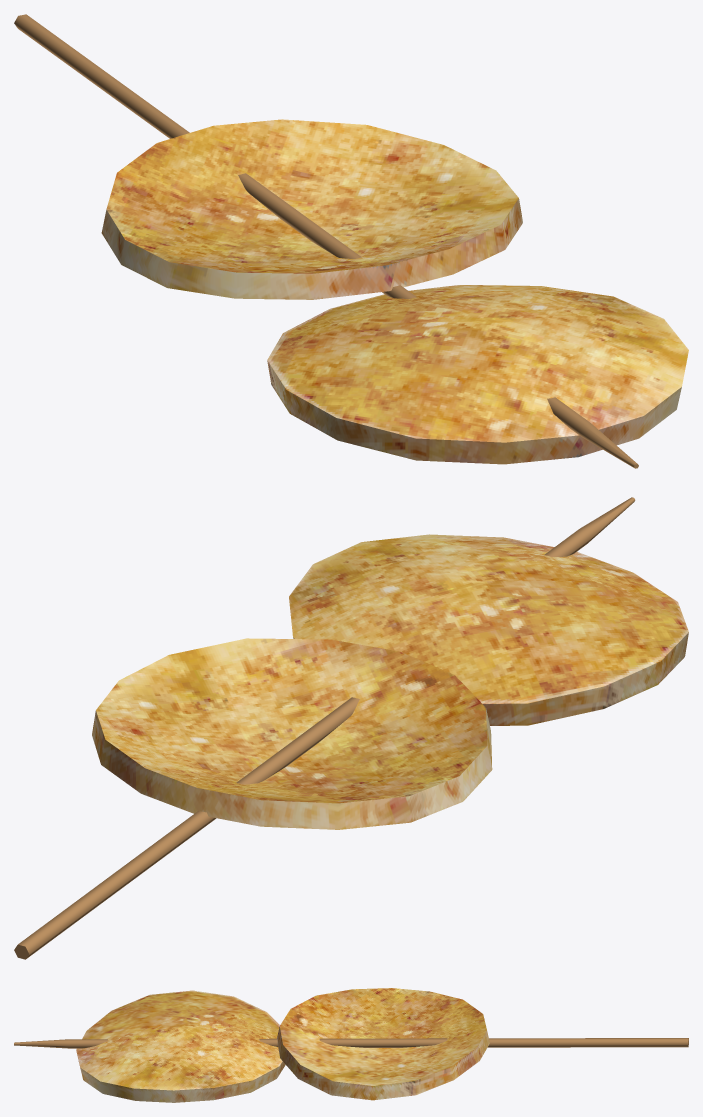
File: ref_potatoskewers.glb
3 views of the same model, one above another, from view 1: azimuth 30°, elevation 25°; view 2: azimuth 150°, elevation 25°; view 3: azimuth 270°, elevation 25° (orthographic). The views are drawn at different scales.
Visible parts, largest first — view 1: ref_potatoskewers; view 2: ref_potatoskewers; view 3: ref_potatoskewers.
Boxes of the visible parts, left/top/right/bottom form: ref_potatoskewers: left=14, top=14, right=688, bottom=468; ref_potatoskewers: left=14, top=497, right=688, bottom=959; ref_potatoskewers: left=14, top=988, right=688, bottom=1102.
Bounding box in the file's own units: 0.3558 × 0.058 × 1.
1 material, 1 textured.
